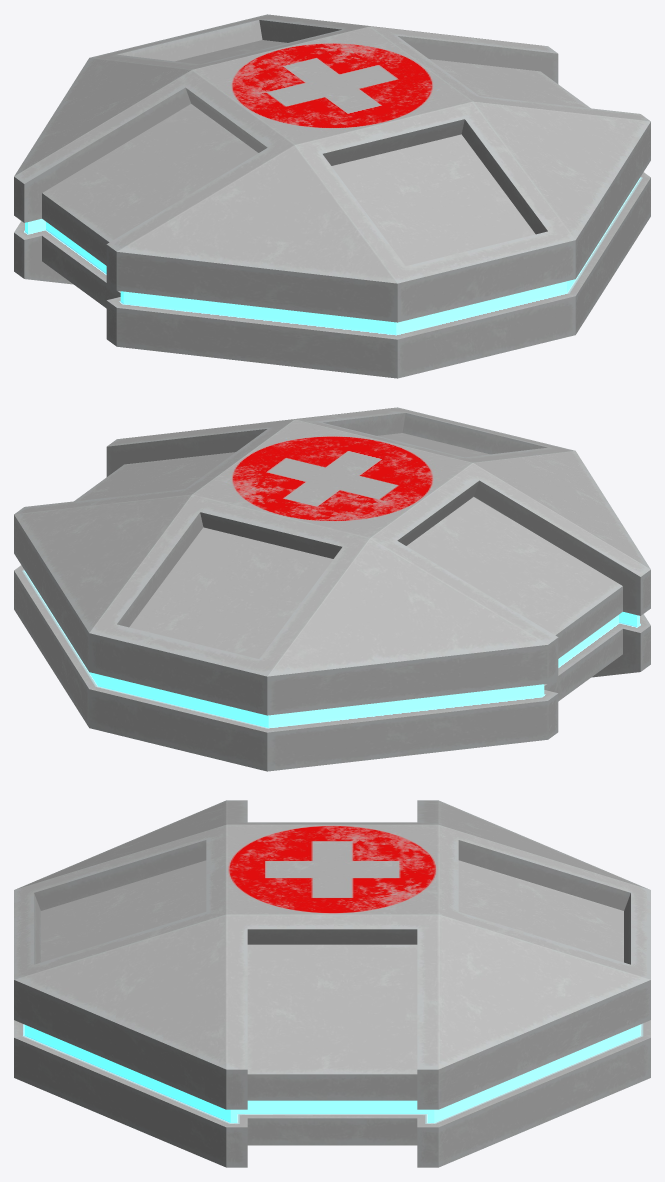
The model's file is health.fbx.
3 views of the same model, one above another, from view 1: azimuth 30°, elevation 25°; view 2: azimuth 150°, elevation 25°; view 3: azimuth 270°, elevation 25° (orthographic). The views are drawn at different scales.
Visible parts, largest first — view 1: Healthpack; view 2: Healthpack; view 3: Healthpack.
Boxes of the visible parts, x1,y1,x2,y2 form: Healthpack: (14,14,650,378); Healthpack: (14,407,650,771); Healthpack: (14,800,650,1167).
Size of the model in its own units: 15000 by 5940 by 15000.
